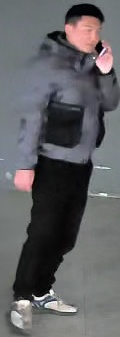phone: (66, 3, 119, 113)
